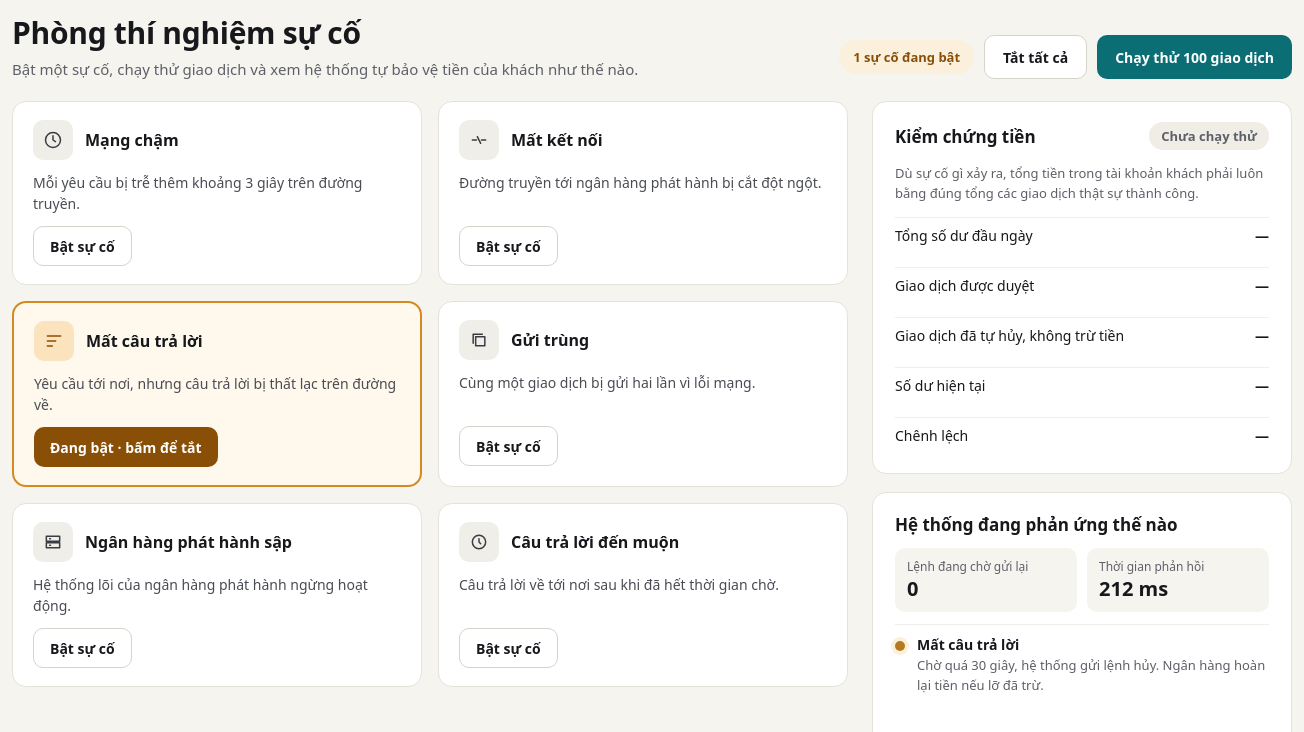
ChaosLabScreen › turns every scenario off and shows the calm state __MCN_405_AC1_AC3
This screenshot has width=1304, height=732.
Expected: the text "1 sự cố đang bật" is shown, [839,40,974,74]
Step 1. Click the button "Tắt tất cả" → (1036, 57), box [984,35,1087,79]
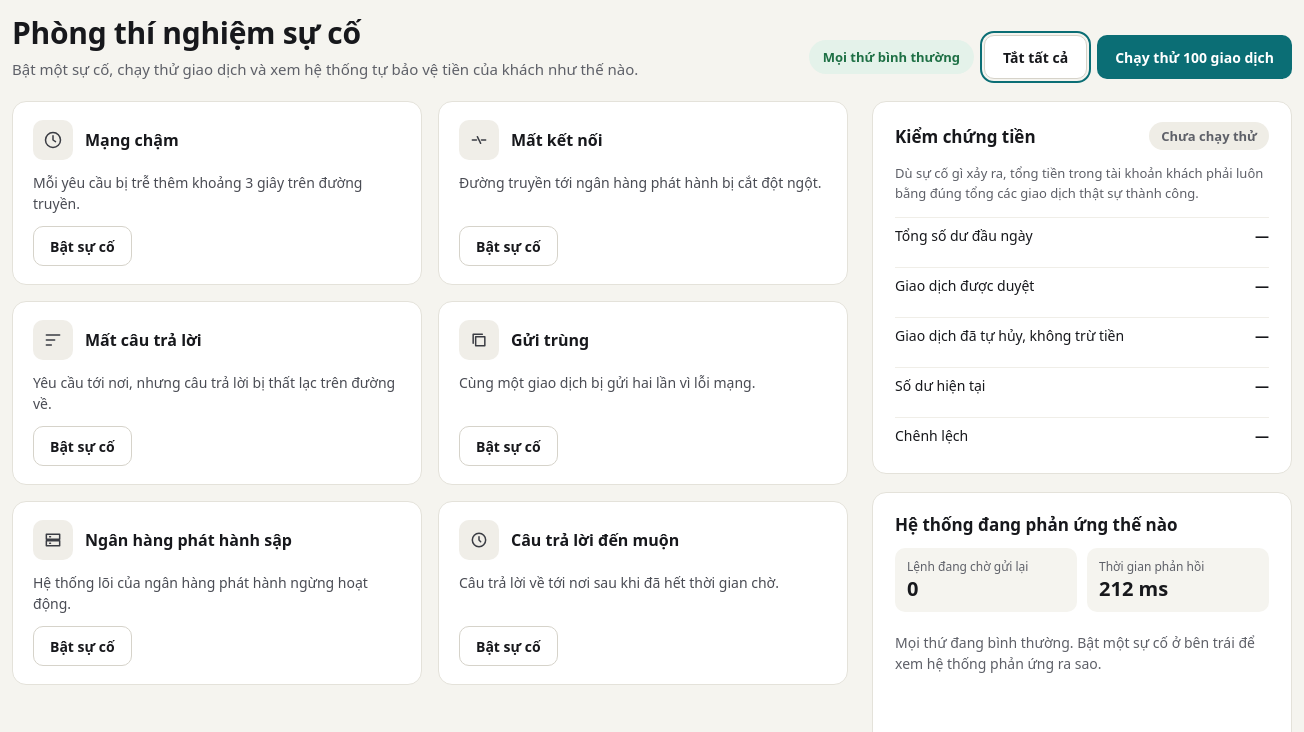
Expected: the text "Mọi thứ bình thường" is shown, [809,40,974,74]
Expected: the text "Mọi thứ đang bình thường" is shown, [895,633,1255,673]
